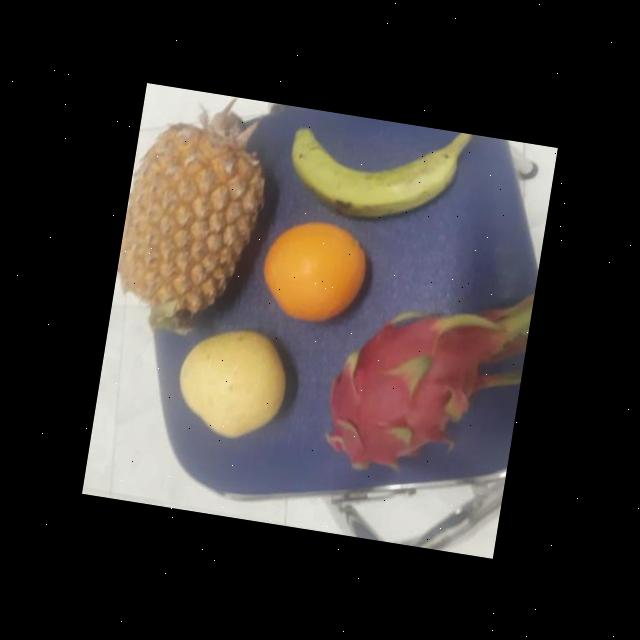banana: (284, 115, 466, 232)
guava: (173, 321, 294, 448)
pineapple: (109, 108, 286, 344)
pitaya: (322, 293, 492, 492)
